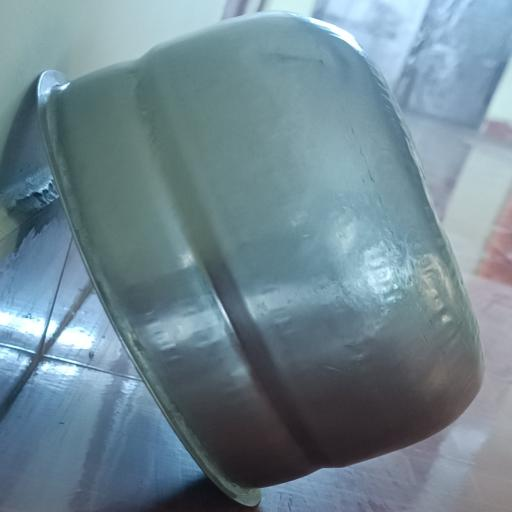vessel: (43, 13, 482, 504)
